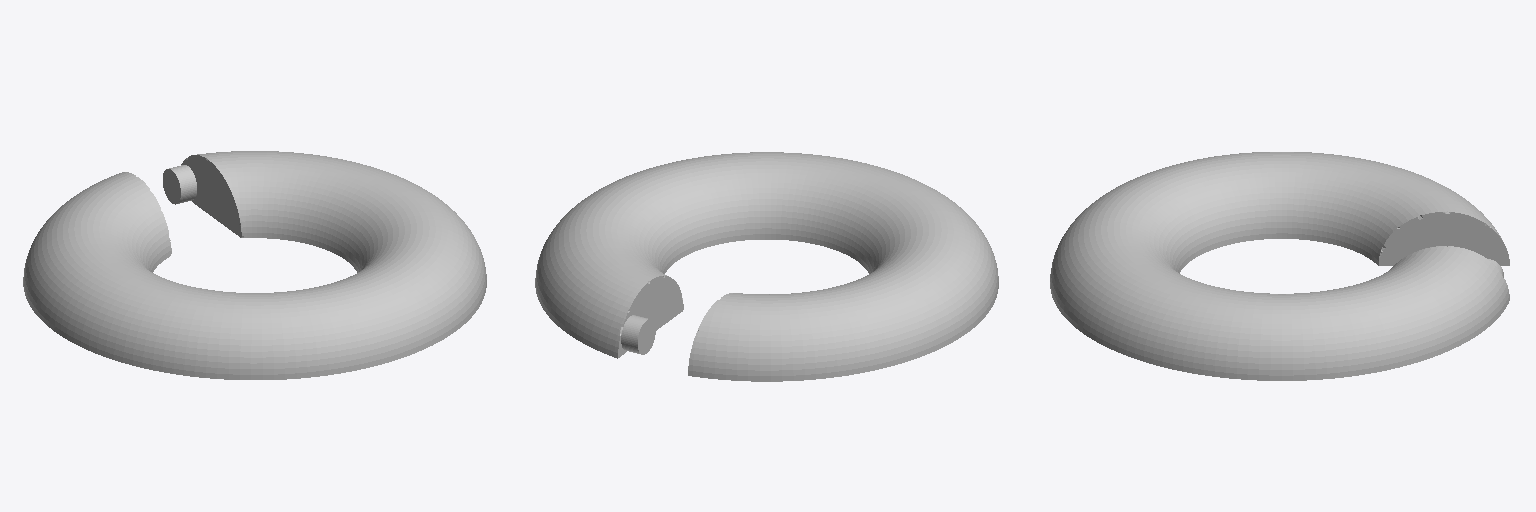
The model's file is knotted_ring.dt.obj.
The picture shows the model from 3 angles: view 1: azimuth 30°, elevation 25°; view 2: azimuth 150°, elevation 25°; view 3: azimuth 270°, elevation 25°; orthographic projection.
Size of the model in its own units: 31 by 4 by 30.76.